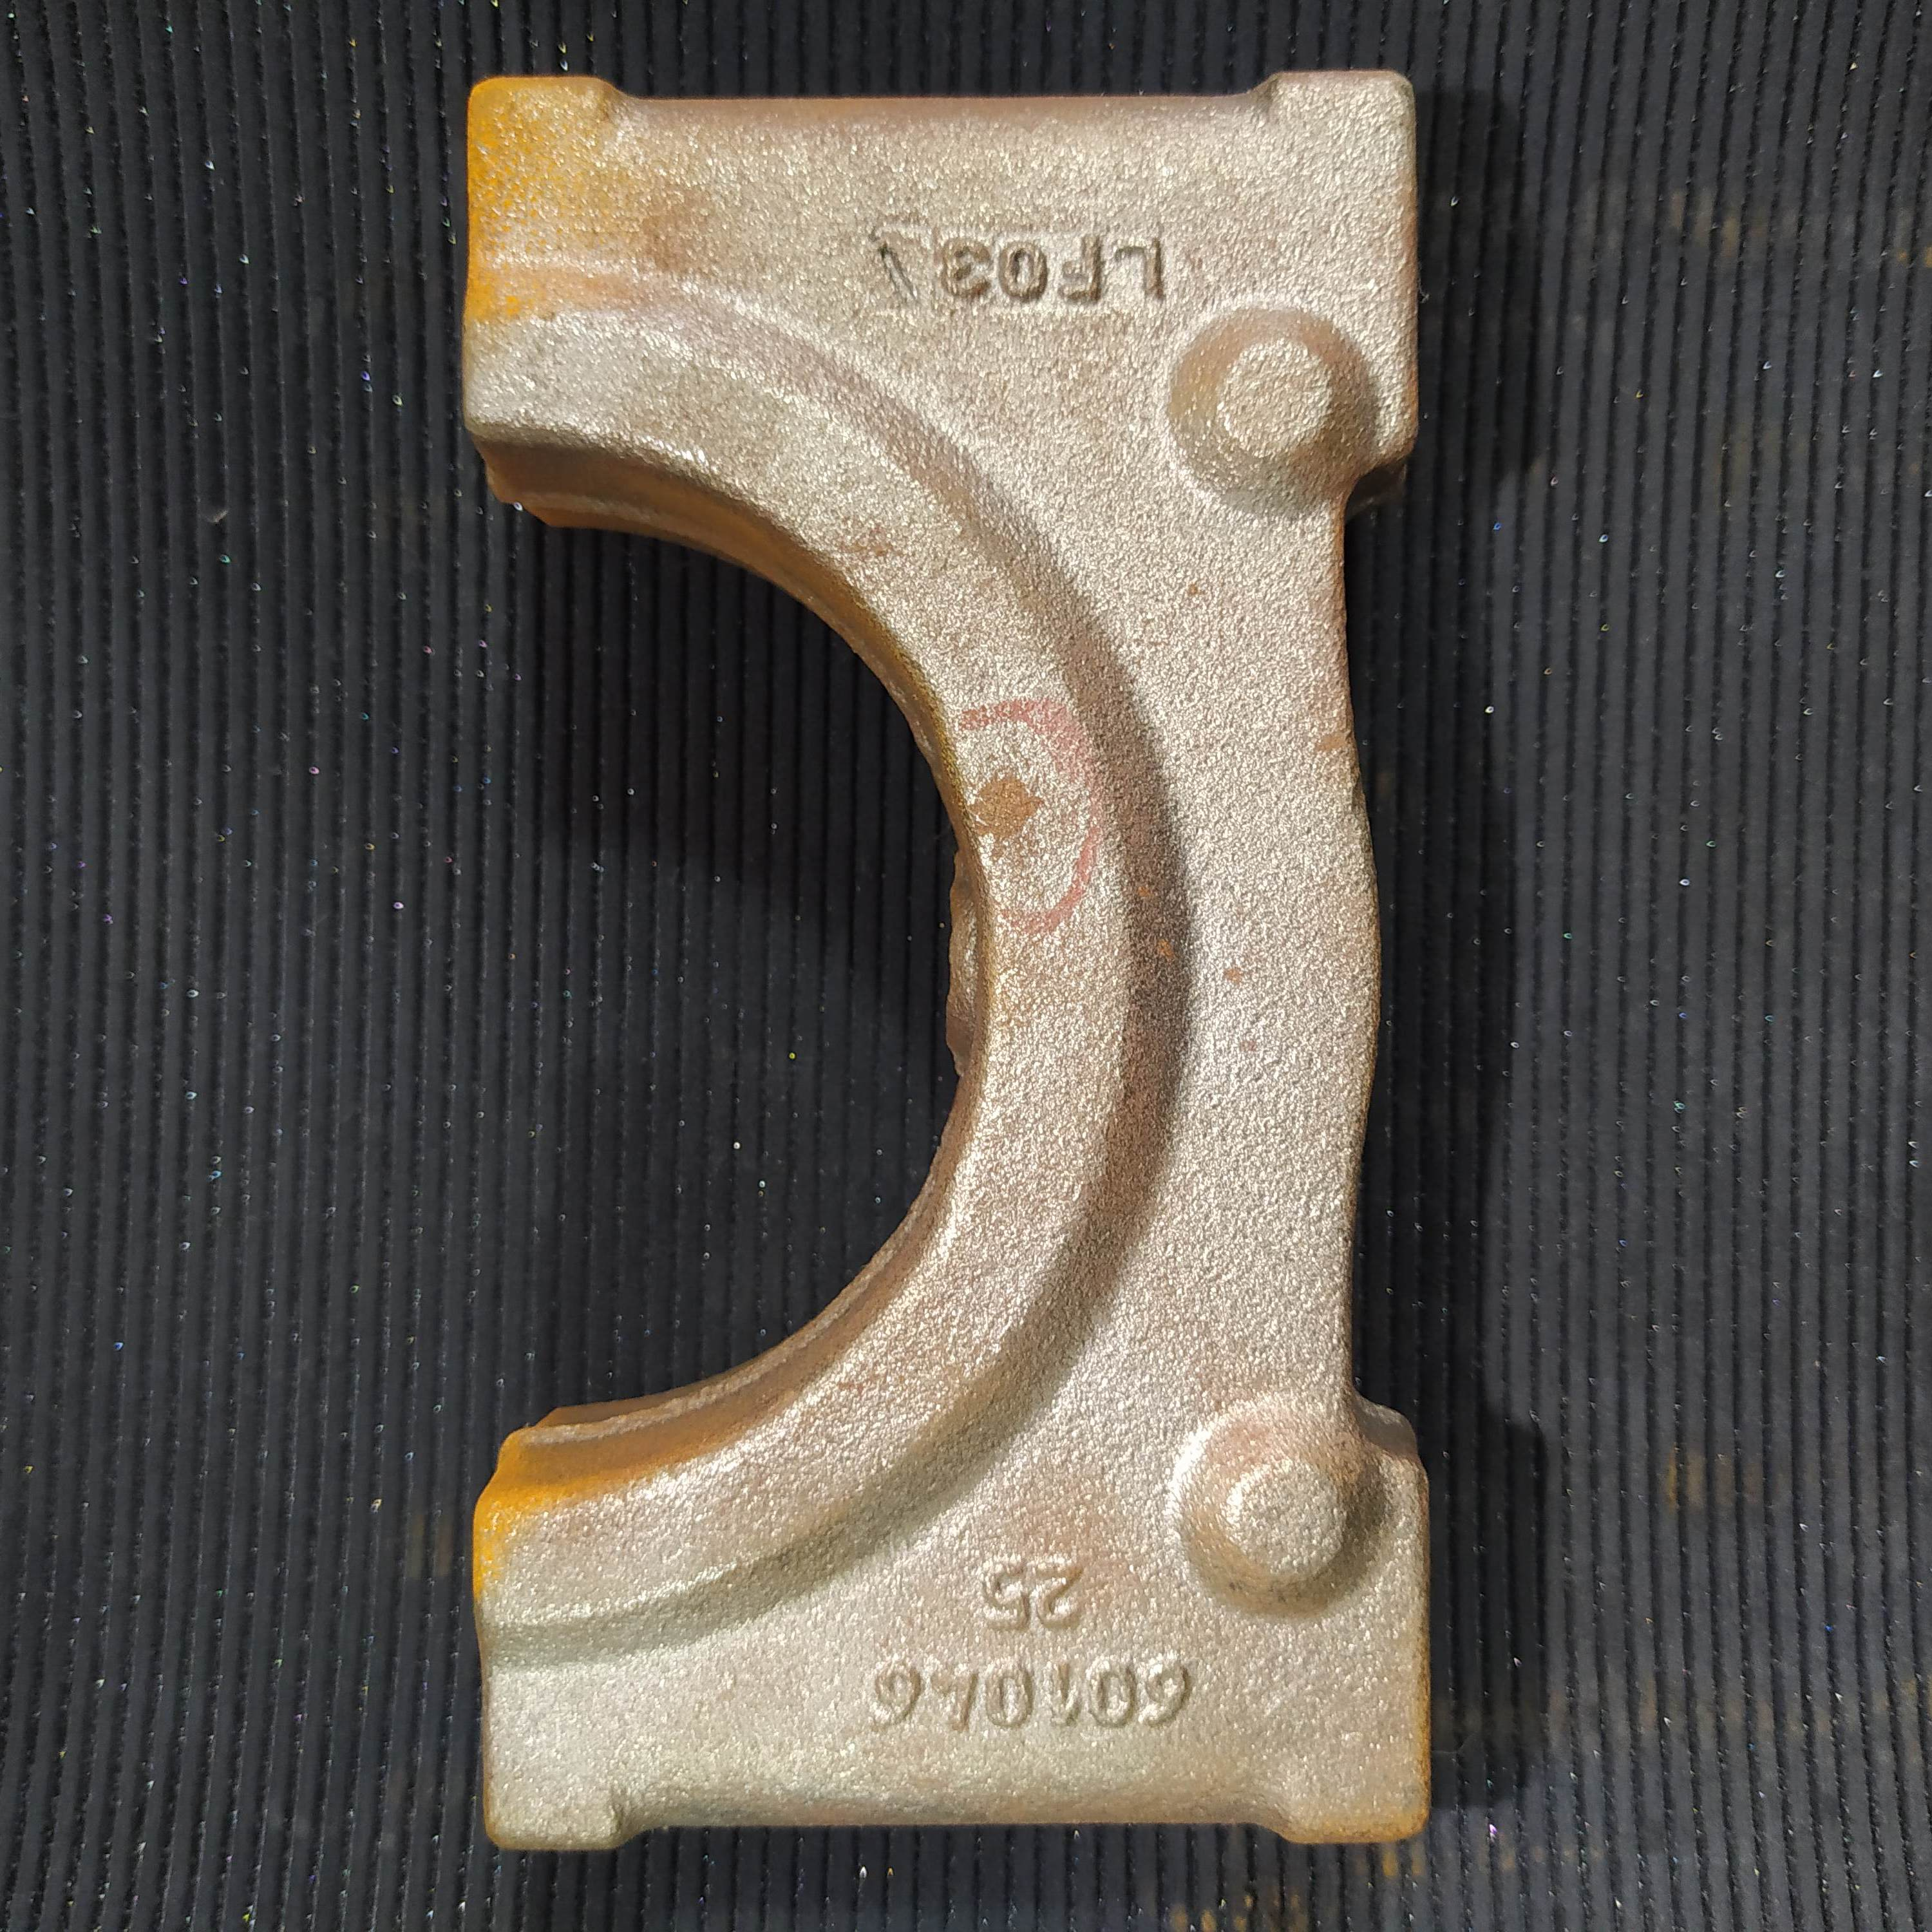mancha (ferrugem): (961, 766, 1046, 851)
